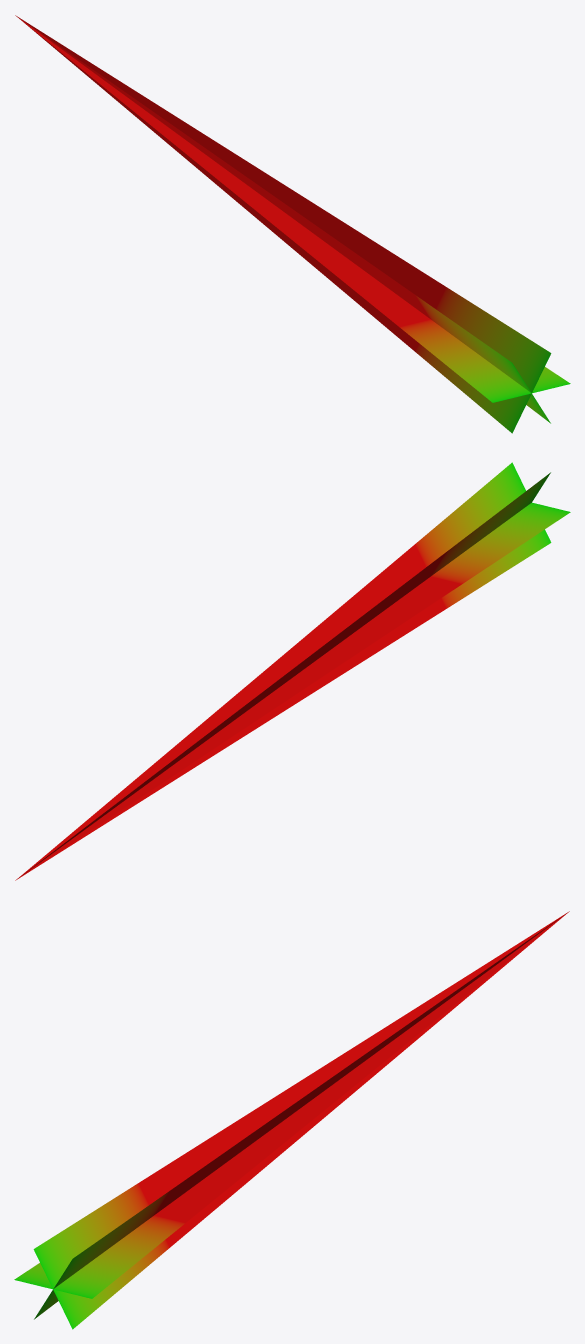
Rendered from SM_DivineLaserBeam_01.FBX.
3 views of the same model, one above another, from view 1: azimuth 30°, elevation 25°; view 2: azimuth 150°, elevation 25°; view 3: azimuth 330°, elevation 25° (orthographic).
Visible parts, largest first — view 1: SM_DivineLaserBeam_01; view 2: SM_DivineLaserBeam_01; view 3: SM_DivineLaserBeam_01.
Boxes of the visible parts, x1,y1,x2,y2 form: SM_DivineLaserBeam_01: [15, 15, 570, 433]; SM_DivineLaserBeam_01: [15, 462, 570, 880]; SM_DivineLaserBeam_01: [14, 911, 569, 1329].
Bounding box in the file's own units: 200 × 2294 × 173.
